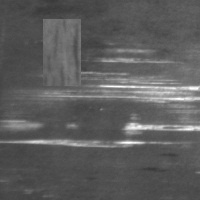inclusion: (43, 19, 81, 86)
scratches: (1, 116, 198, 147), (34, 71, 200, 104), (88, 42, 178, 66)
